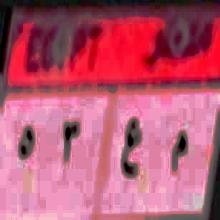3: (61, 116, 81, 172)
5: (15, 114, 38, 170)
ain: (119, 115, 142, 185)
meem: (169, 121, 187, 185)
